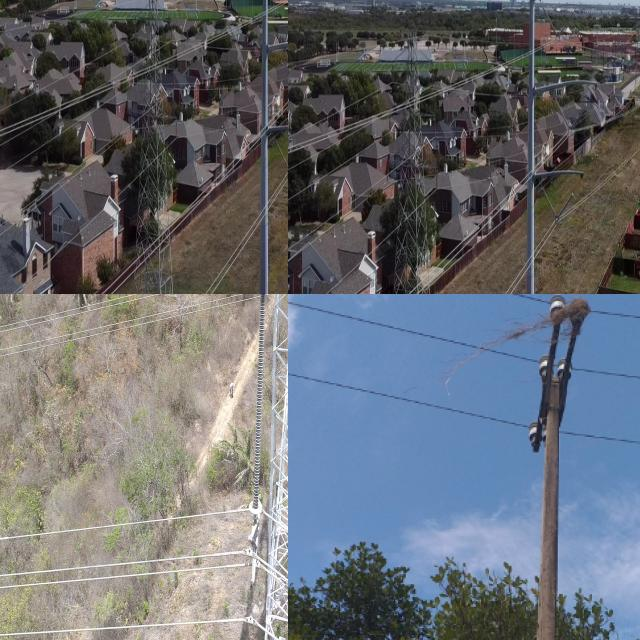杆塔: (388, 0, 441, 294), (130, 0, 179, 294), (256, 294, 288, 640)
植被遮挡: (442, 294, 593, 395)
正常绝缘子: (246, 294, 271, 542), (542, 5, 561, 42), (569, 100, 590, 133), (554, 94, 572, 131), (541, 185, 559, 221), (556, 9, 576, 39), (555, 191, 574, 222), (275, 138, 288, 169)
